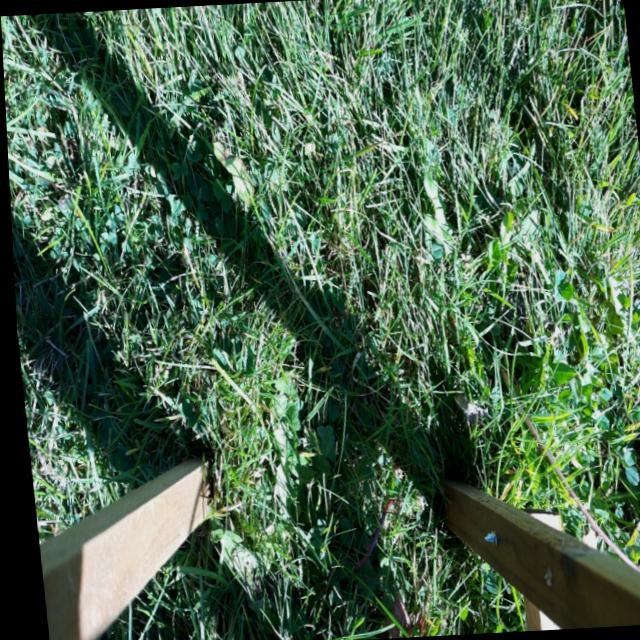base: (490, 361, 513, 396)
